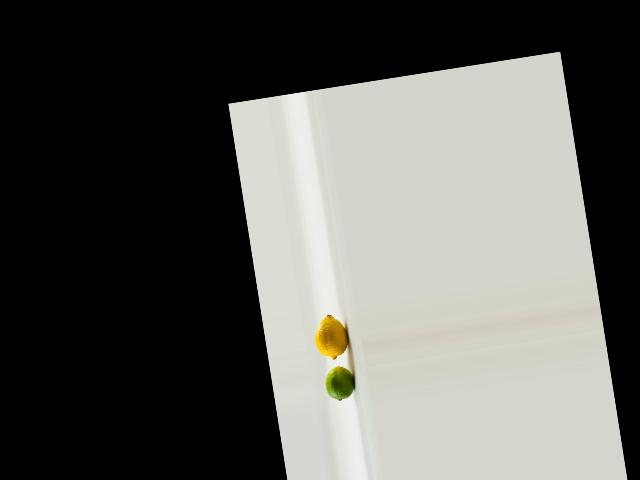lemon: (310, 312, 351, 360)
